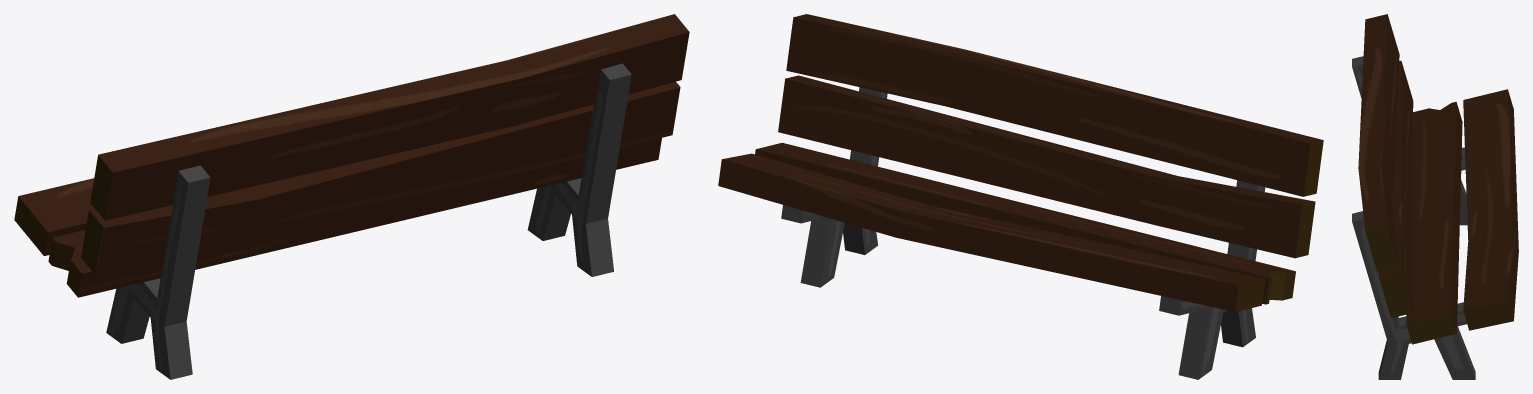
Rendered from bench.fbx.
3 views of the same model, side by side, from view 1: azimuth 30°, elevation 25°; view 2: azimuth 150°, elevation 25°; view 3: azimuth 270°, elevation 25° (orthographic). The views are drawn at different scales.
Visible parts, largest first — view 1: Cube.004; view 2: Cube.004; view 3: Cube.004.
Boxes of the visible parts, left/top/right/bottom form: Cube.004: left=14, top=14, right=689, bottom=379; Cube.004: left=718, top=14, right=1323, bottom=379; Cube.004: left=1352, top=14, right=1518, bottom=379.
Bounding box in the file's own units: 260 × 102 × 86.52.
